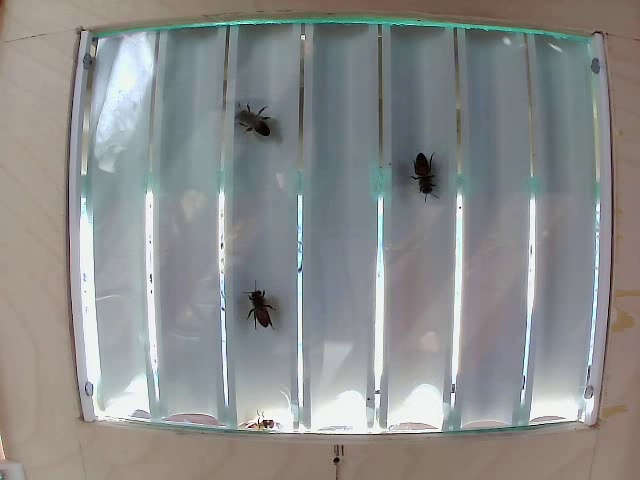bee: (409, 150, 451, 217), (231, 100, 281, 147), (234, 283, 275, 330)
